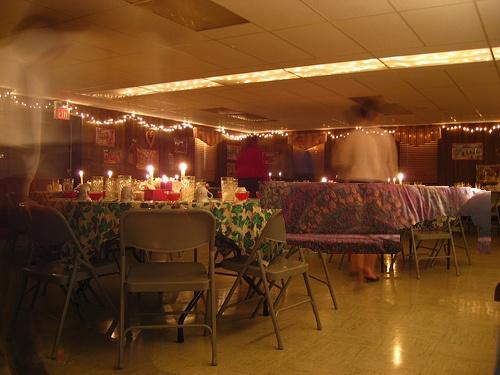tampered: (259, 181, 491, 254)
